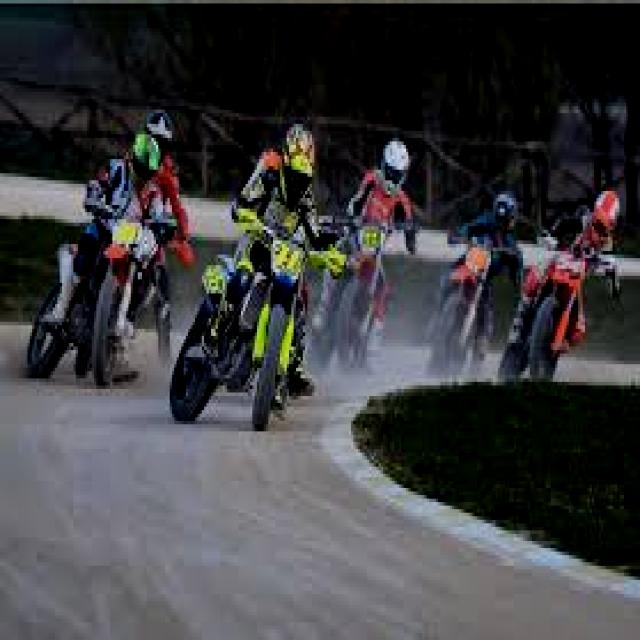MOTORCYCLE: (181, 214, 310, 424), (36, 206, 135, 389), (424, 215, 486, 375), (512, 233, 573, 378), (335, 211, 384, 381)
